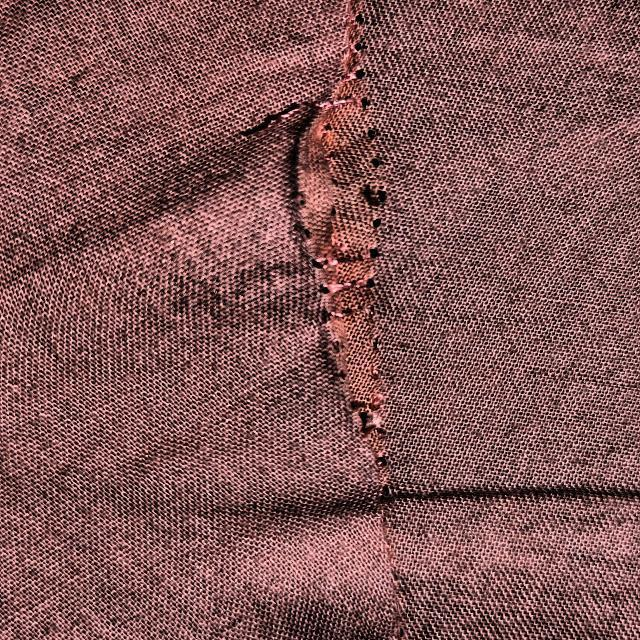gray stitch: (246, 42, 433, 482)
